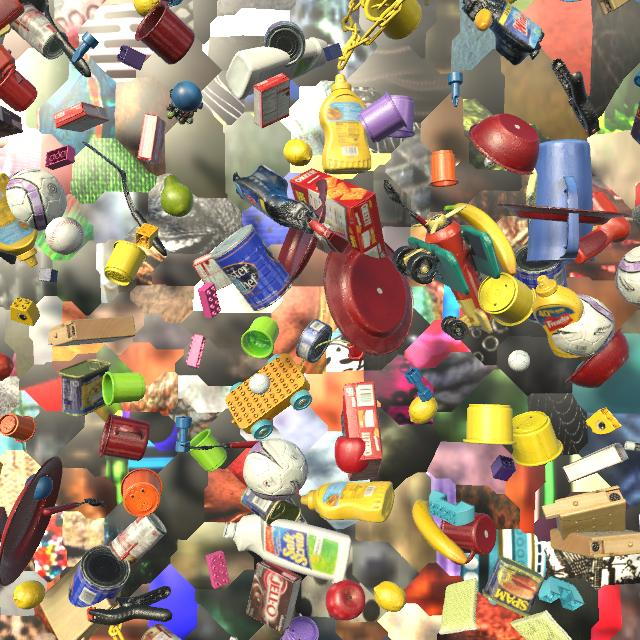ycb_002_master_chef_can: (210, 224, 294, 311), (514, 244, 568, 324), (68, 545, 130, 607)
ycb_003_cracker_box: (289, 168, 387, 259), (341, 381, 383, 481)
ycb_005_tomato_soup_can: (10, 3, 68, 60), (109, 513, 167, 567), (141, 624, 182, 640)
ycb_006_mustard_bottle: (319, 74, 372, 174), (532, 275, 584, 358), (301, 481, 395, 522), (0, 172, 38, 267)
ycb_007_tuna_fish_can: (264, 21, 305, 67), (296, 319, 332, 363)
ycb_008_pudding_box: (246, 560, 302, 634), (562, 443, 629, 483), (0, 105, 23, 138)
ycb_009_gelatin_box: (253, 73, 290, 128), (52, 102, 109, 132), (193, 253, 233, 291), (138, 113, 166, 165)
ycb_010_potted_meat_can: (482, 555, 544, 617), (59, 359, 111, 417), (240, 487, 301, 527)
ycb_011_banana: (444, 203, 517, 276), (412, 499, 468, 565), (475, 0, 517, 31)
ycb_013_apple: (325, 580, 366, 621), (334, 436, 370, 473)
ycb_014_lemon: (373, 581, 406, 612), (13, 581, 46, 609), (409, 396, 438, 424), (283, 139, 312, 166), (134, 0, 161, 17)
ycb_016_pear: (160, 175, 194, 217)
